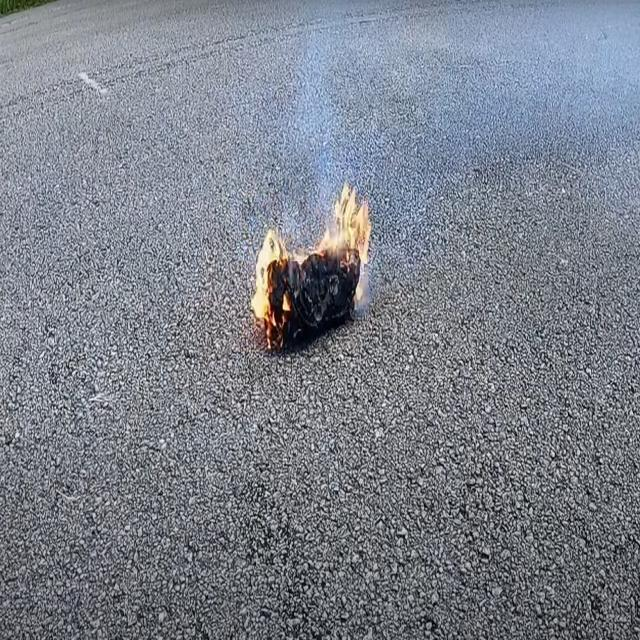Fire: (247, 186, 377, 344)
